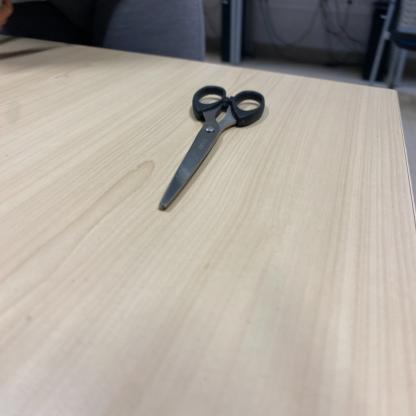scissors: (158, 85, 264, 210)
